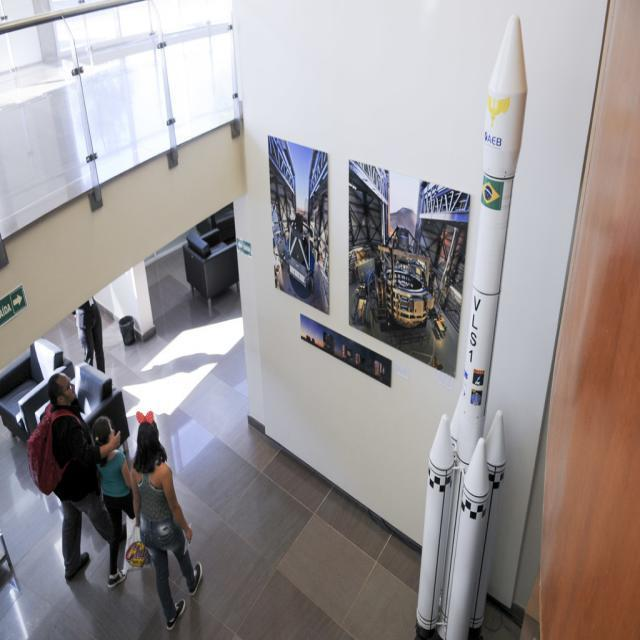Missile: (454, 6, 533, 403), (430, 424, 511, 640), (404, 399, 464, 640)
